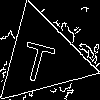T: (17, 32, 59, 85)
